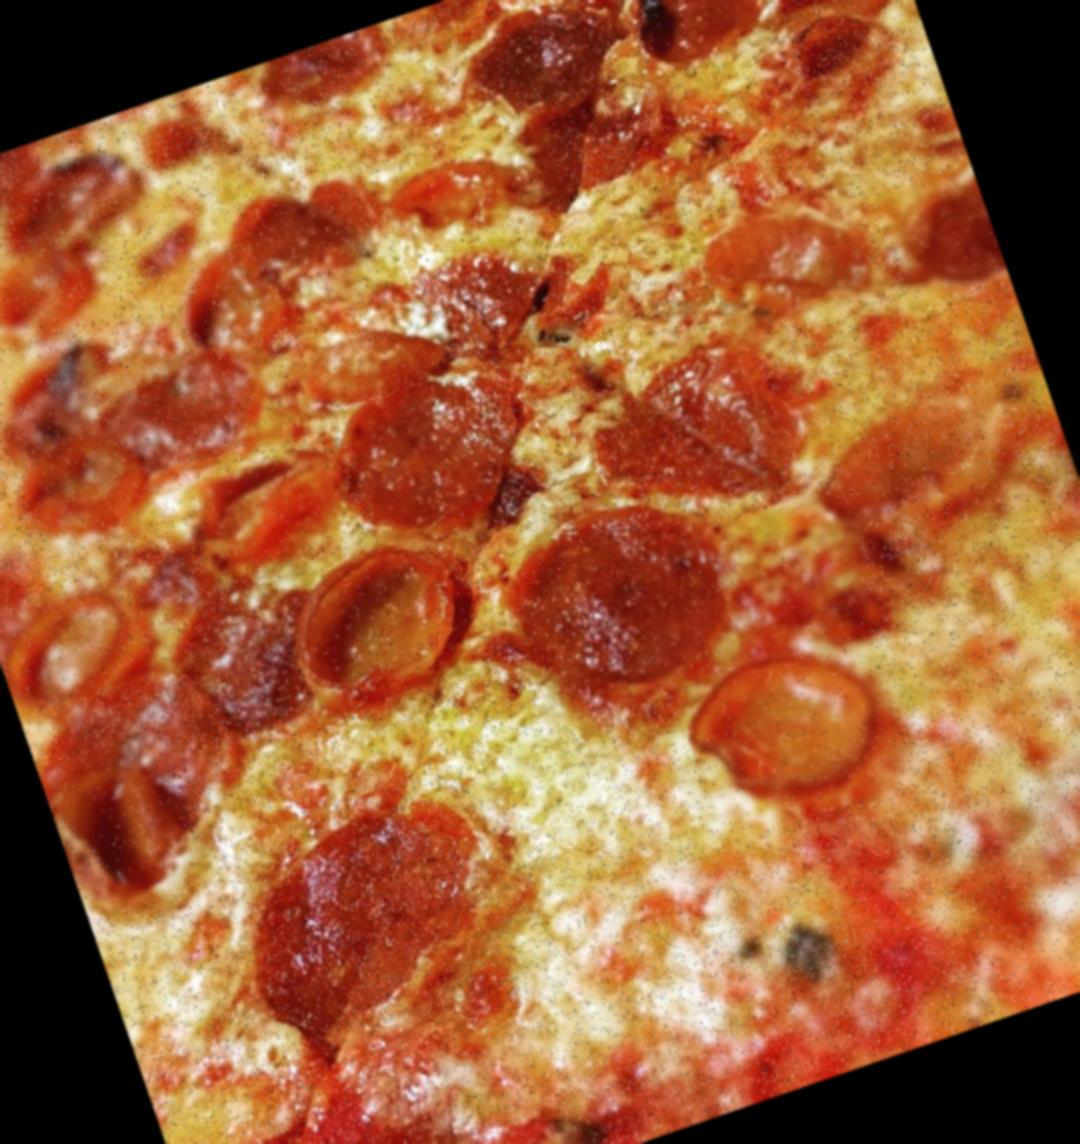Cheese: (505, 741, 750, 1078), (901, 586, 1080, 1011)
Pepperoni: (217, 766, 520, 1057), (482, 479, 745, 730), (557, 313, 828, 540), (670, 614, 915, 843), (146, 160, 401, 359), (793, 377, 1027, 559), (273, 519, 479, 716), (0, 336, 161, 555), (340, 364, 526, 551), (701, 483, 884, 665), (158, 565, 329, 756), (40, 729, 208, 921), (98, 323, 291, 490), (694, 176, 883, 343), (446, 0, 642, 150), (0, 563, 175, 723), (379, 123, 567, 254), (177, 442, 347, 580), (417, 219, 570, 372), (279, 295, 459, 418), (0, 131, 158, 260), (754, 0, 932, 113), (878, 163, 1009, 306), (0, 239, 116, 349), (258, 27, 384, 120), (623, 0, 772, 73)
Pizza: (0, 0, 1080, 1144)
